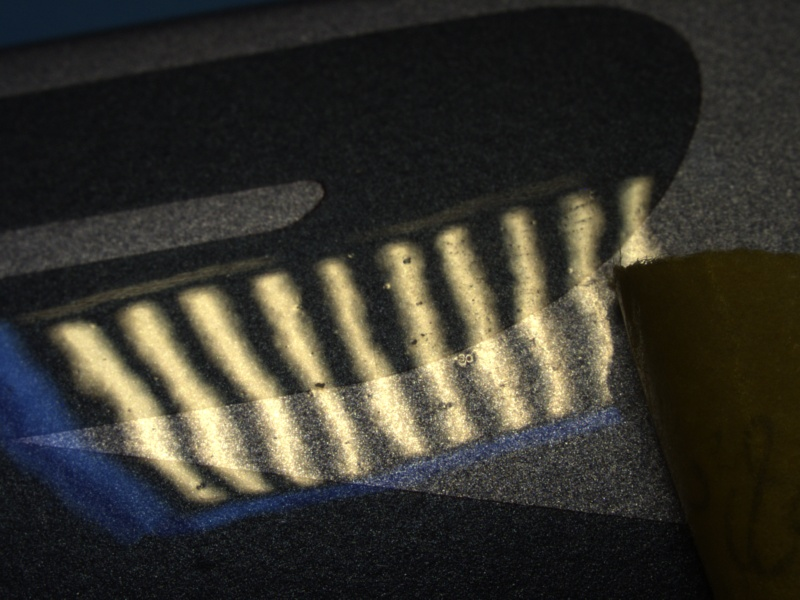bad: (445, 341, 487, 377)
